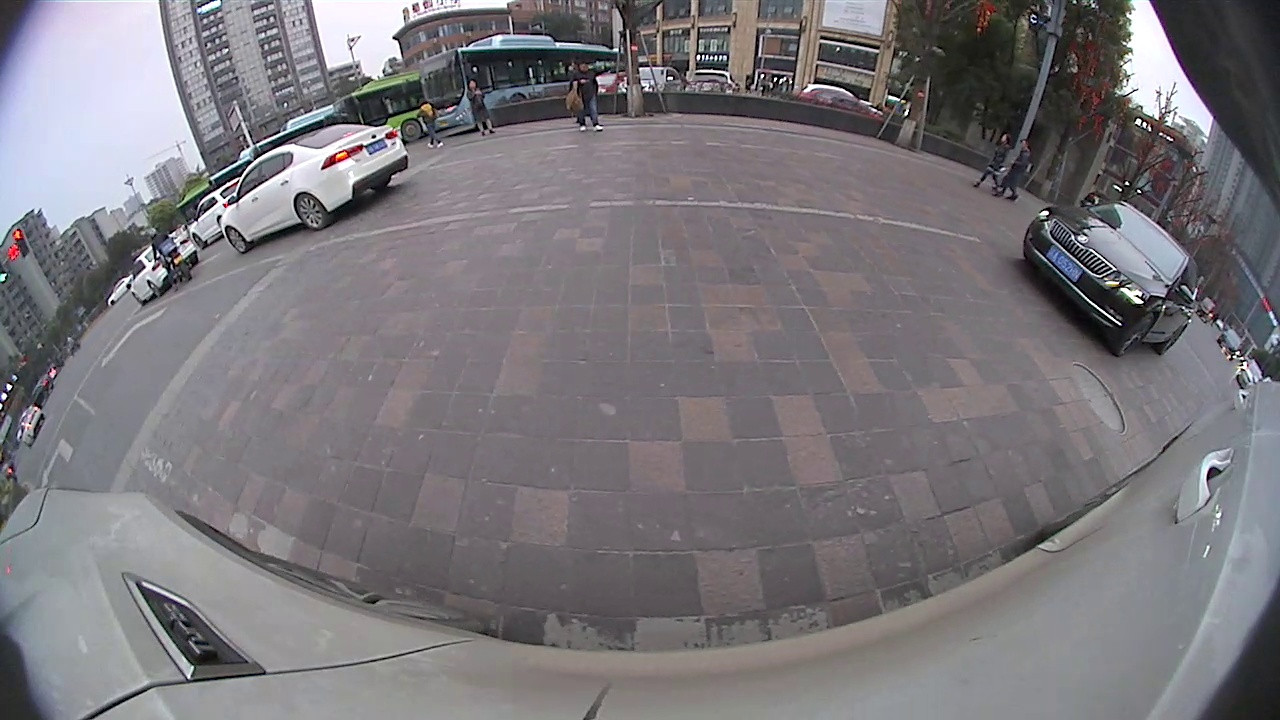bus: (418, 32, 624, 137)
car: (1022, 199, 1200, 359), (220, 122, 410, 255), (192, 177, 243, 249)
front: (1115, 312, 1158, 360), (225, 226, 251, 256)
person: (573, 60, 596, 137), (467, 79, 484, 134), (1017, 138, 1031, 201), (996, 133, 1010, 192)
rear: (295, 192, 331, 232)
rider: (149, 229, 192, 293)
